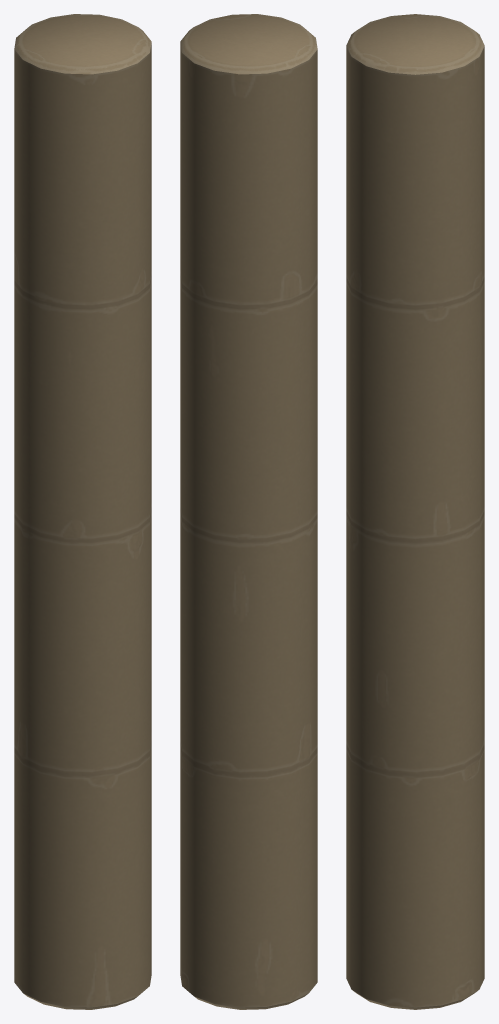
Rendered from ARC0510067.fbx.
The picture shows the model from 3 angles, left to right: view 1: azimuth 30°, elevation 25°; view 2: azimuth 150°, elevation 25°; view 3: azimuth 270°, elevation 25°; orthographic projection.
Visible parts, largest first — view 1: smARC0510067; view 2: smARC0510067; view 3: smARC0510067.
Boxes of the visible parts, x1,y1,x2,y2 form: smARC0510067: [14, 14, 151, 1009]; smARC0510067: [180, 14, 317, 1009]; smARC0510067: [346, 14, 484, 1009].
Bounding box in the file's own units: 40 × 300 × 40.
Materials: 1 (1 with a texture image).
